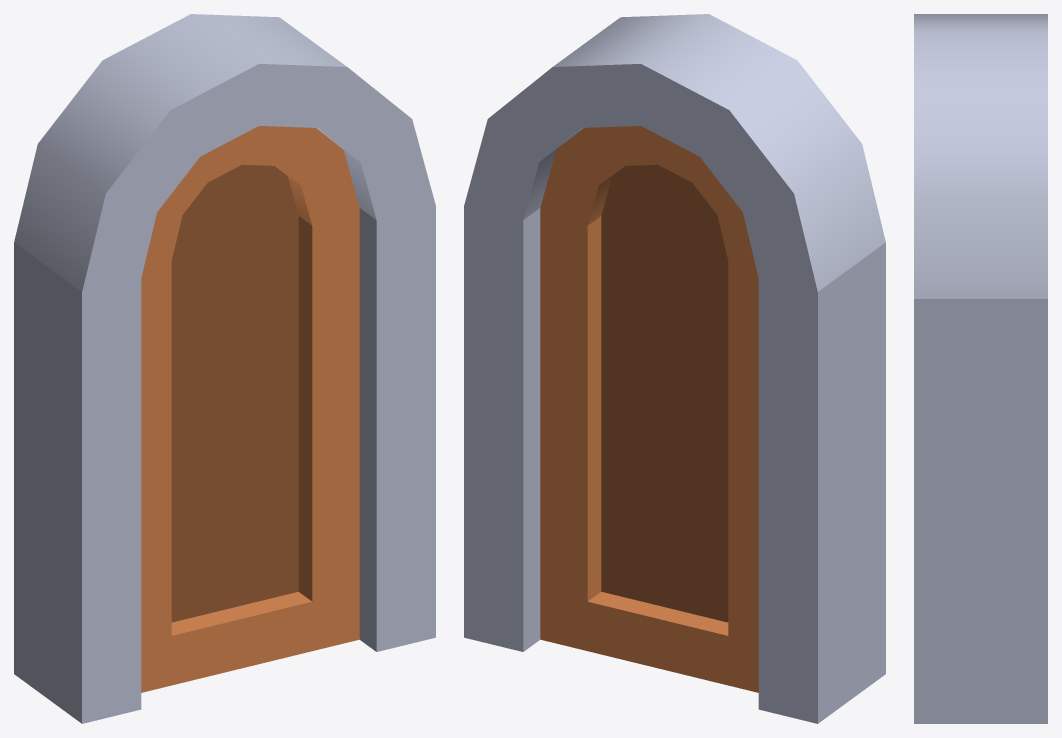
Rendered from doorClosed.fbx.
3 renders of one model, left to right at view 1: azimuth 30°, elevation 25°; view 2: azimuth 150°, elevation 25°; view 3: azimuth 270°, elevation 25°, orthographic.
Visible parts, largest first — view 1: doorClosed; view 2: doorClosed; view 3: doorClosed.
Boxes of the visible parts, <box> form: doorClosed: <box>14,14,435,723</box>; doorClosed: <box>464,14,885,723</box>; doorClosed: <box>914,14,1047,723</box>.
Size of the model in its own units: 6 by 10 by 2.
